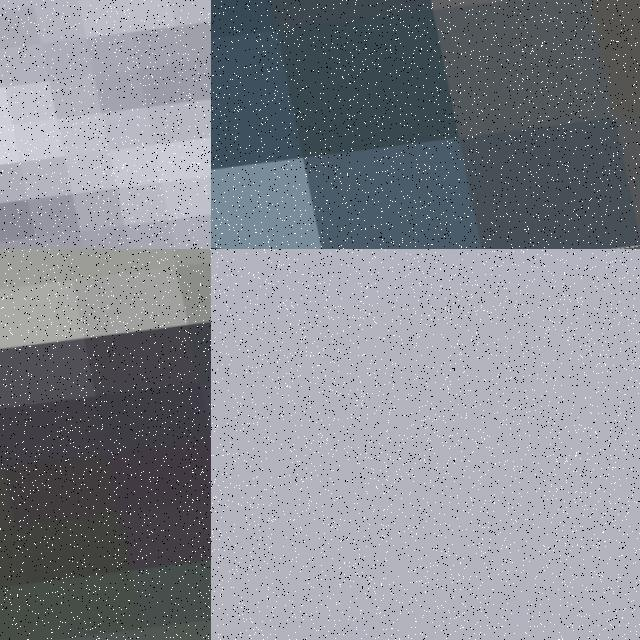drone: (211, 249, 640, 640), (211, 0, 640, 249), (0, 249, 211, 640), (0, 0, 211, 249)
